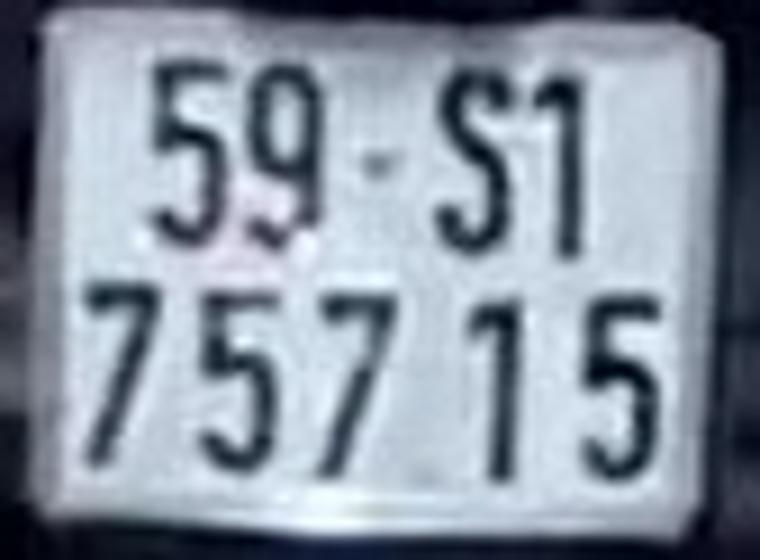1: (463, 298, 523, 480), (531, 79, 587, 256)
5: (580, 290, 665, 491), (149, 59, 229, 246), (199, 287, 277, 472)
7: (313, 288, 397, 477), (81, 274, 160, 466)
9: (248, 65, 321, 253)
S: (435, 66, 512, 262)
